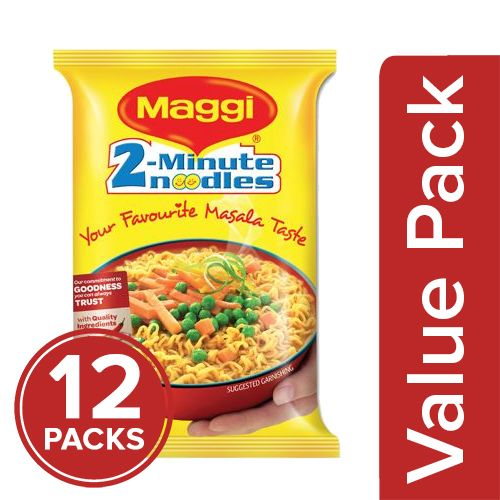maggie: (52, 50, 342, 461)
